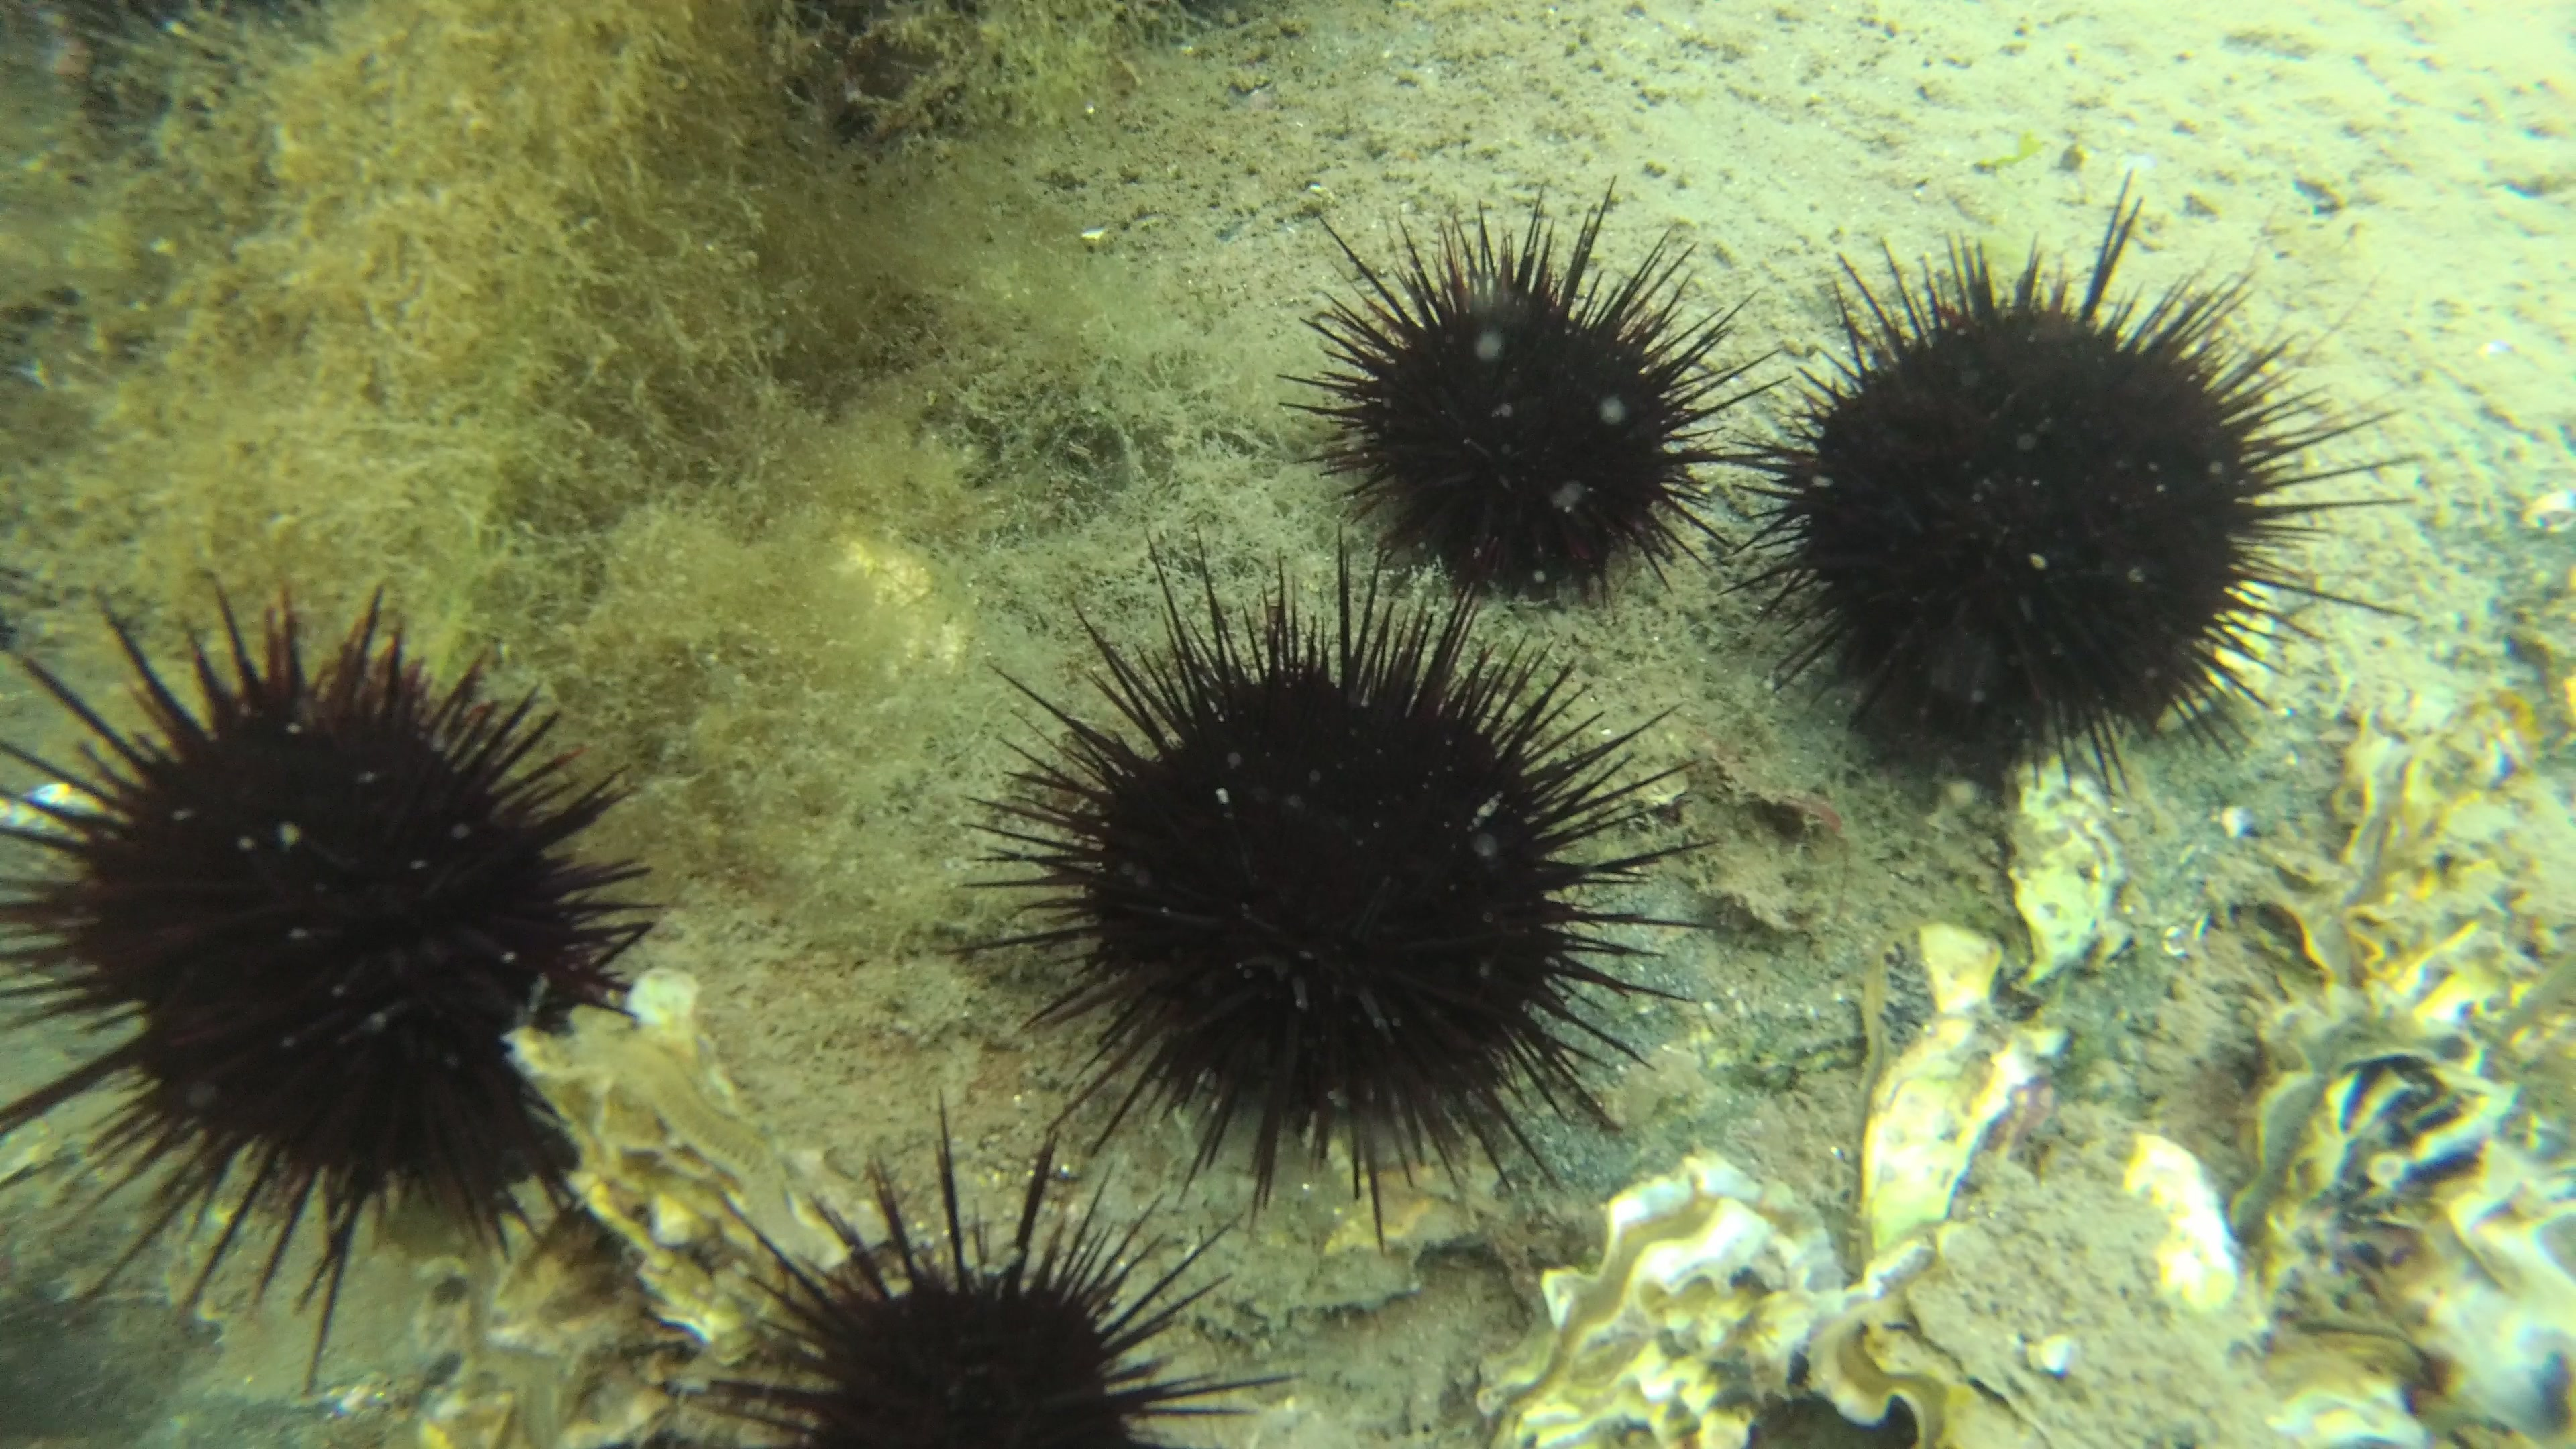echinus: (957, 518, 1725, 1246), (5, 582, 674, 1391), (1727, 172, 2397, 794), (1274, 186, 1792, 669), (701, 1088, 1307, 1444)
